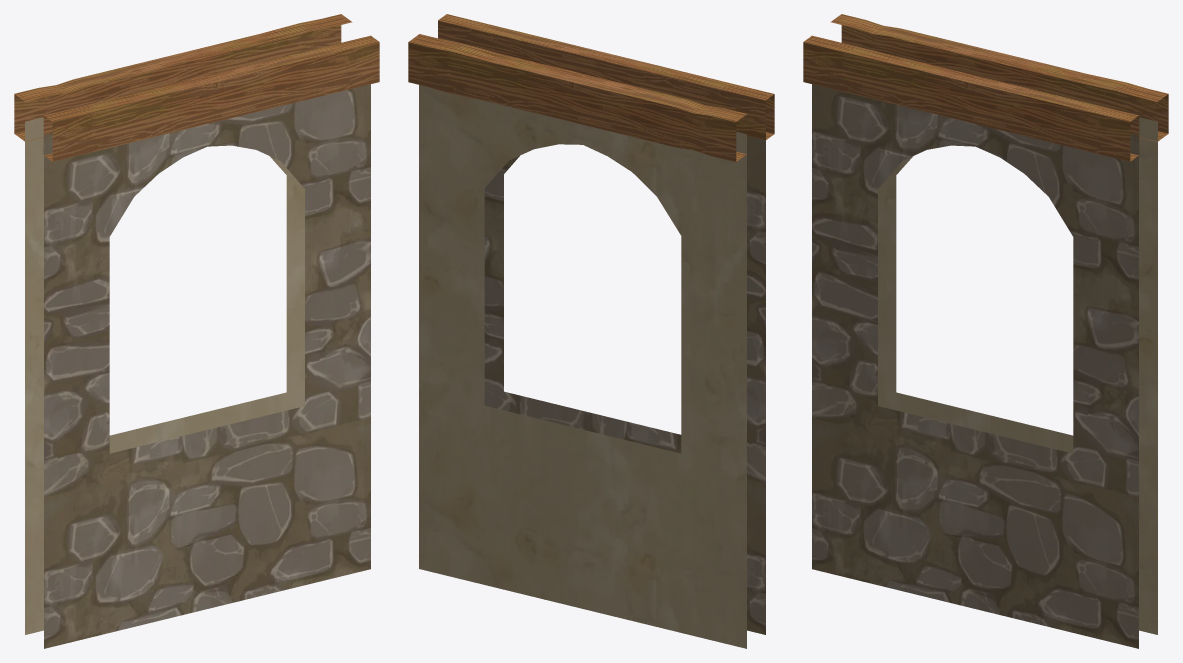
Rendered from wall_unevenbrick_window_wide_round.glb.
3 views of the same model, side by side, from view 1: azimuth 30°, elevation 25°; view 2: azimuth 150°, elevation 25°; view 3: azimuth 330°, elevation 25° (orthographic).
Bounding box in the file's own units: 2 × 3.12 × 0.4066.
3 materials, 3 textured.
